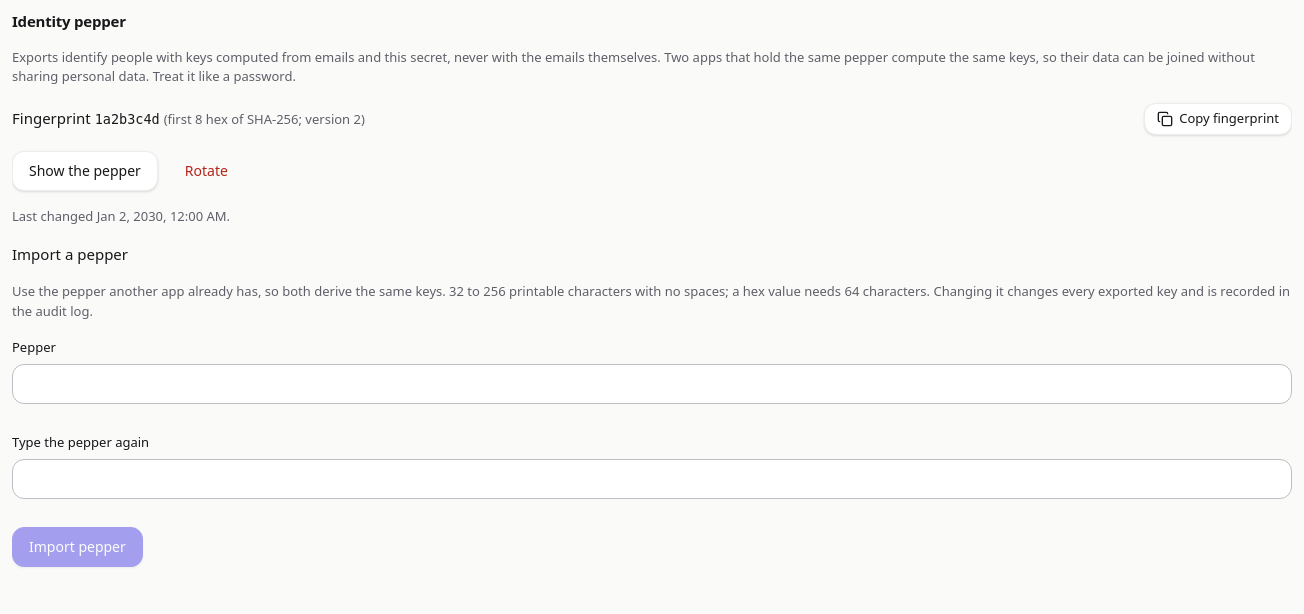
it: identity pepper settings › shows INVALID_PEPPER on the pepper field and PEPPER_CONFIRM_MISMATCH on the confirmation field
This screenshot has width=1304, height=614.
Expected: the text named "Pepper fingerprint" is shown, [95,111,160,127]
Type "short" into the password field labelled "Pepper" at (652, 384), box [12,364,1292,404]
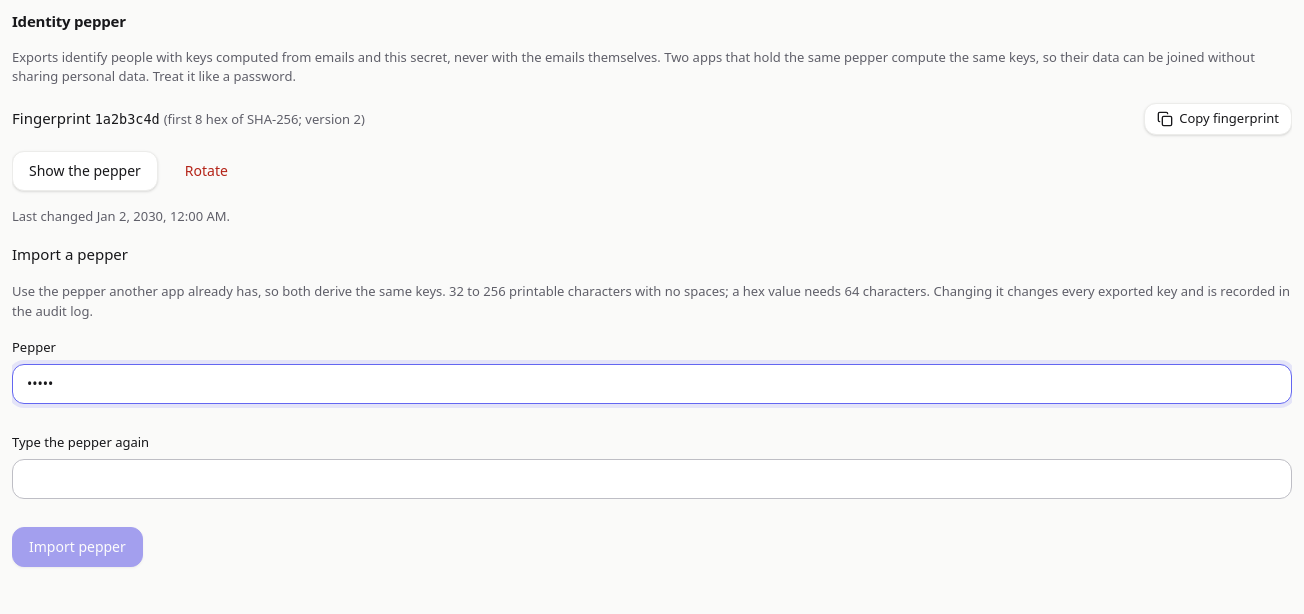
Type "short" into the password field labelled "Type the pepper again" at (652, 479), box [12,459,1292,499]
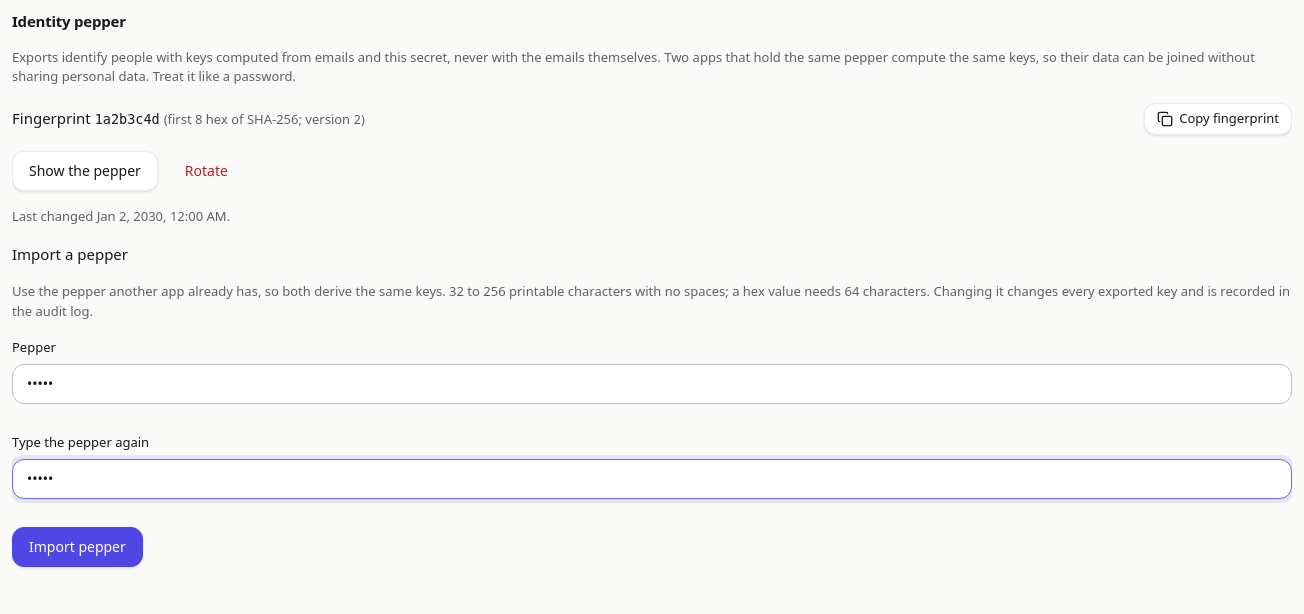
Click the button "Import pepper" at (77, 547), box [12,527,143,567]
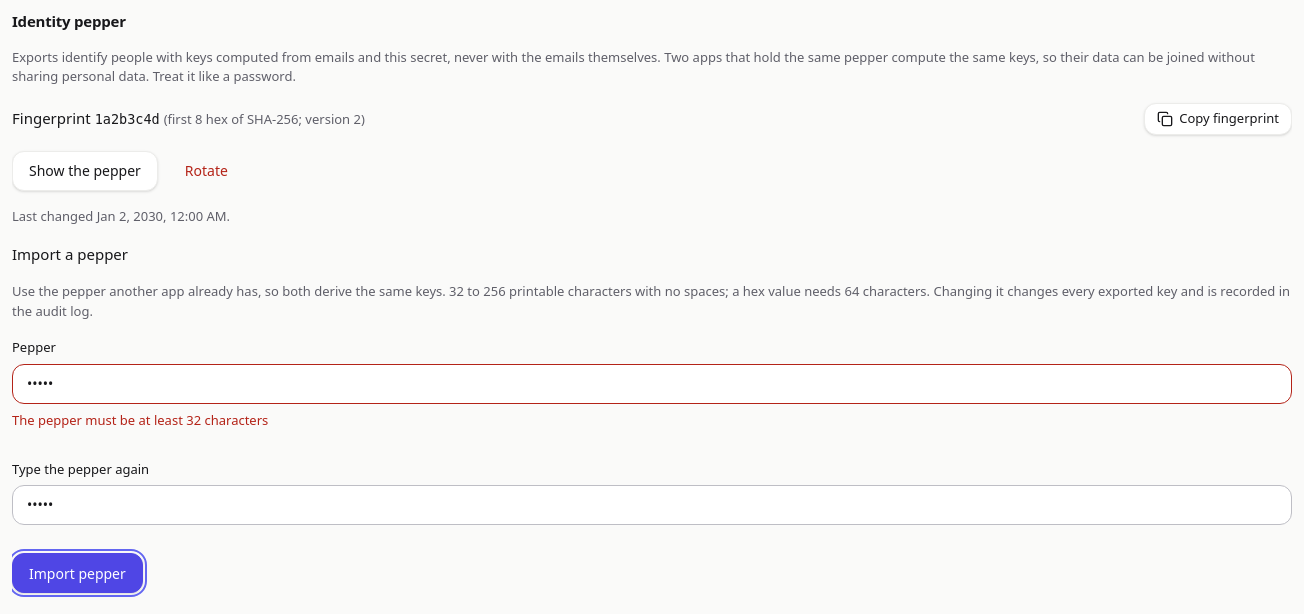
Expected: the text "The pepper must be at least 32 characters" is shown, [12,411,268,429]
Click the button "Import pepper" at (77, 573), box [12,553,143,593]
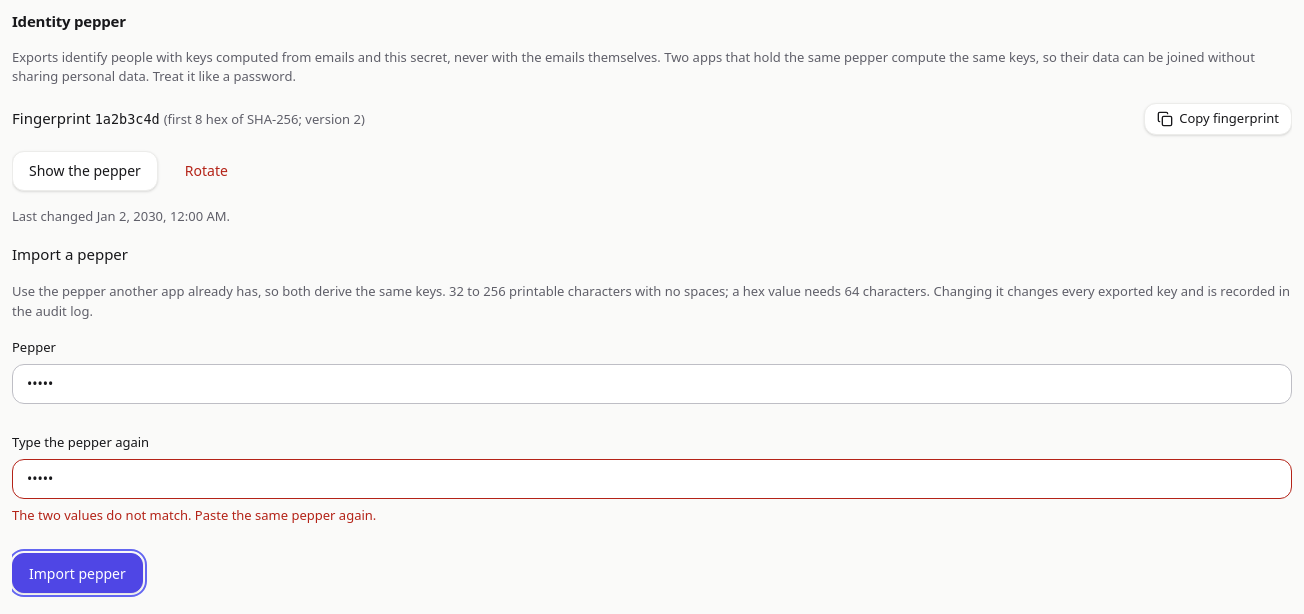
Expected: the text "The two values do not match. Paste the same pepper again." is shown, [12,506,376,524]
